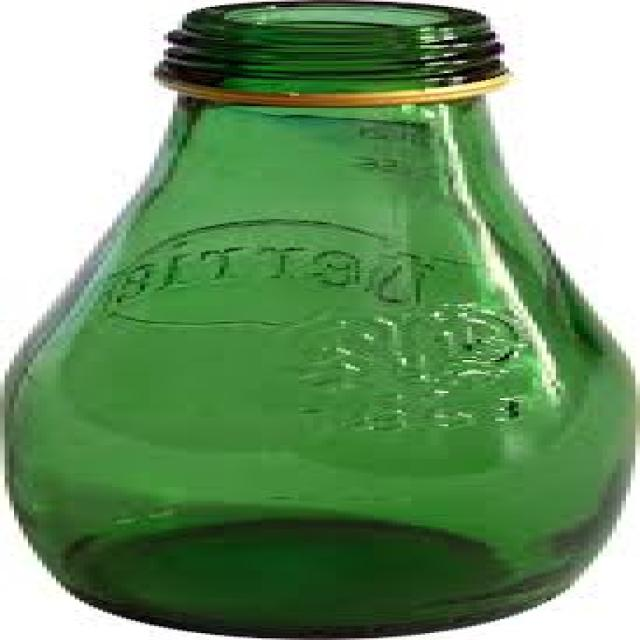glass: (9, 0, 635, 638)
